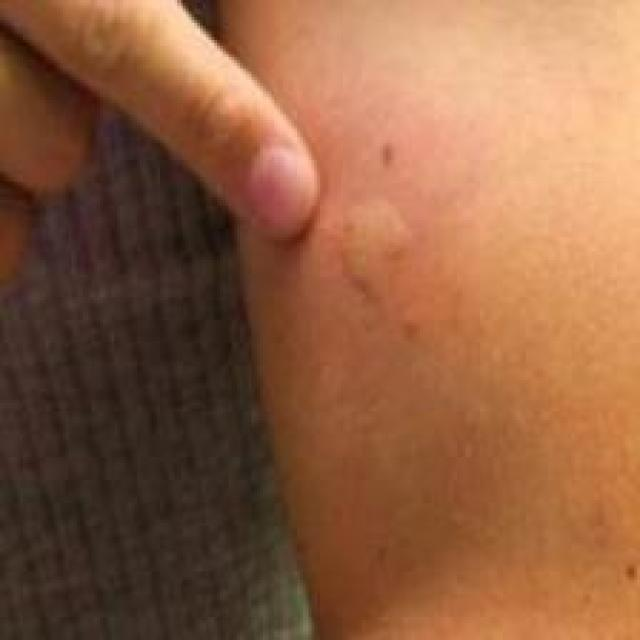sinek: (338, 184, 427, 309)
